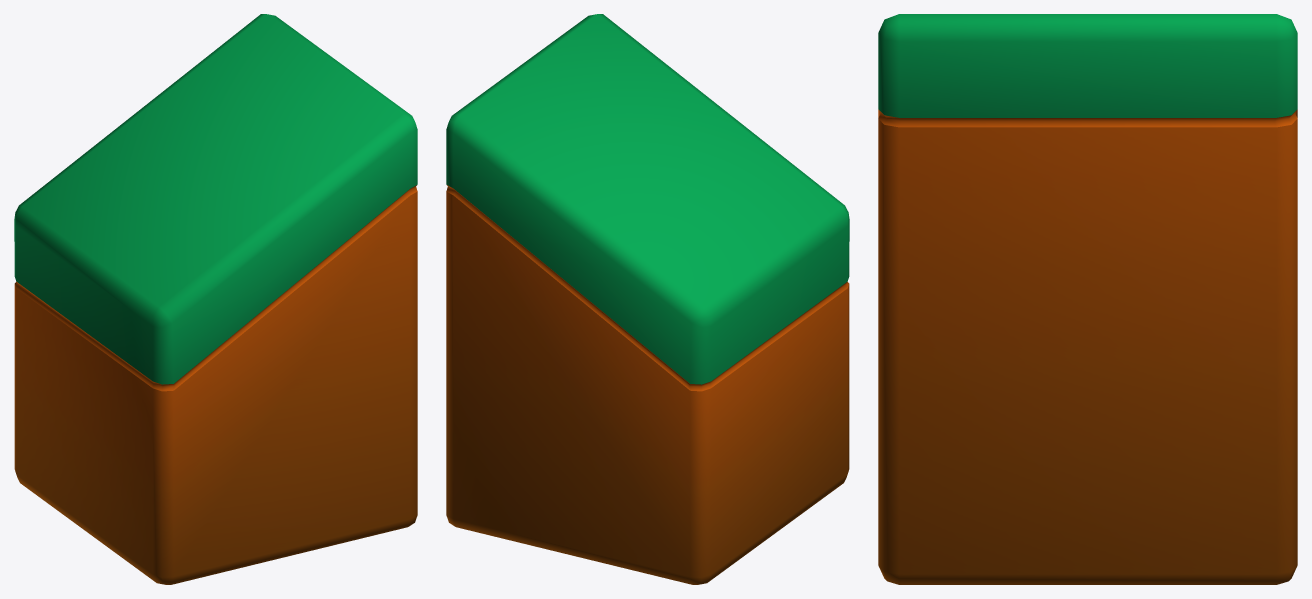
The model's file is 3D_Tile_Ground_01x1_5v03.fbx.
3 renders of one model, left to right at view 1: azimuth 30°, elevation 25°; view 2: azimuth 150°, elevation 25°; view 3: azimuth 270°, elevation 25°, orthographic. The views are drawn at different scales.
Visible parts, largest first — view 1: 3D_Tile_Ground_01x1.5v03; view 2: 3D_Tile_Ground_01x1.5v03; view 3: 3D_Tile_Ground_01x1.5v03.
Part boxes in pixels (x1=…): 3D_Tile_Ground_01x1.5v03: x1=14, y1=14, x2=417, y2=584; 3D_Tile_Ground_01x1.5v03: x1=446, y1=14, x2=849, y2=584; 3D_Tile_Ground_01x1.5v03: x1=878, y1=14, x2=1297, y2=584.
Bounding box in the file's own units: 200 × 300 × 200.
